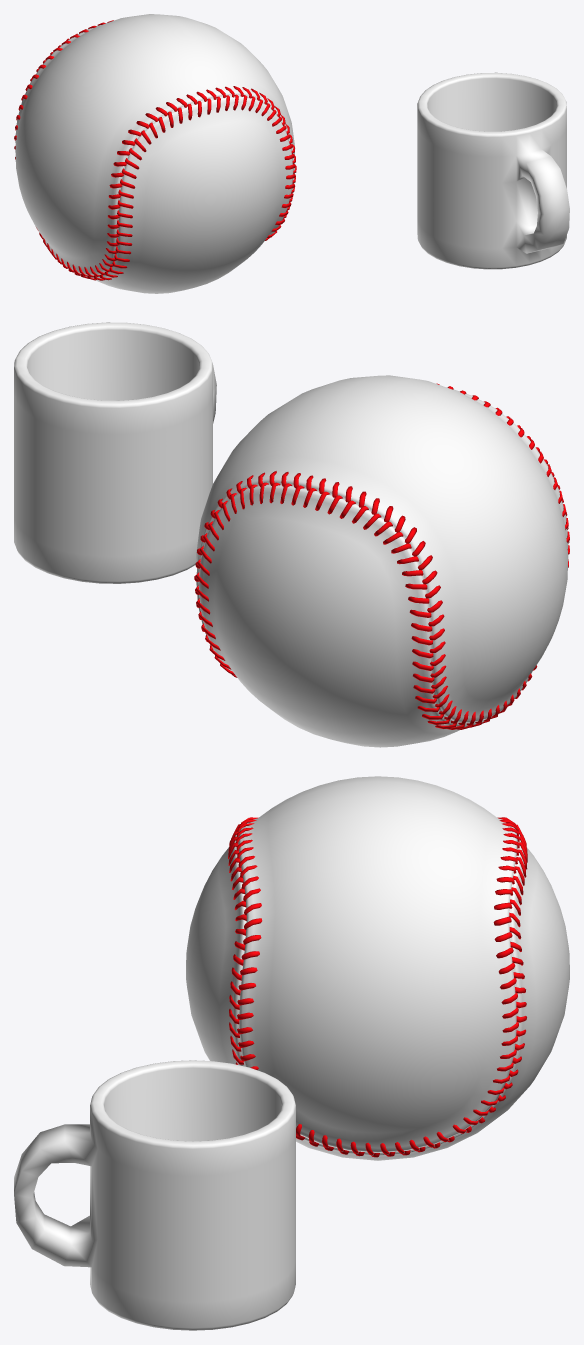
The model's file is gltf.gltf.
3 views of the same model, one above another, from view 1: azimuth 30°, elevation 25°; view 2: azimuth 150°, elevation 25°; view 3: azimuth 270°, elevation 25° (orthographic). The views are drawn at different scales.
Parts seen in each view (by area): view 1: Bola, Mug.001, Costuras; view 2: Bola, Mug.001, Costuras; view 3: Bola, Mug.001, Costuras.
Part boxes in pixels (left/top/right/bottom): Bola: left=15, top=14, right=295, bottom=293; Mug.001: left=417, top=72, right=569, bottom=269; Costuras: left=14, top=20, right=296, bottom=280; Bola: left=196, top=375, right=568, bottom=747; Mug.001: left=14, top=322, right=216, bottom=583; Costuras: left=194, top=383, right=569, bottom=729; Bola: left=186, top=776, right=569, bottom=1160; Mug.001: left=14, top=1060, right=295, bottom=1330; Costuras: left=228, top=817, right=527, bottom=1157.
Size of what is drawn, in the model's own units: 1.41 by 0.7508 by 1.09.
3 materials, 1 textured.
